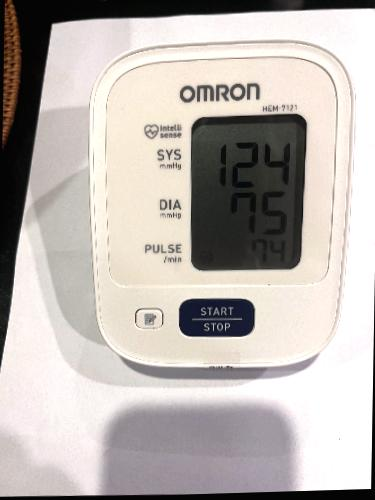bpm: (187, 110, 308, 275)
